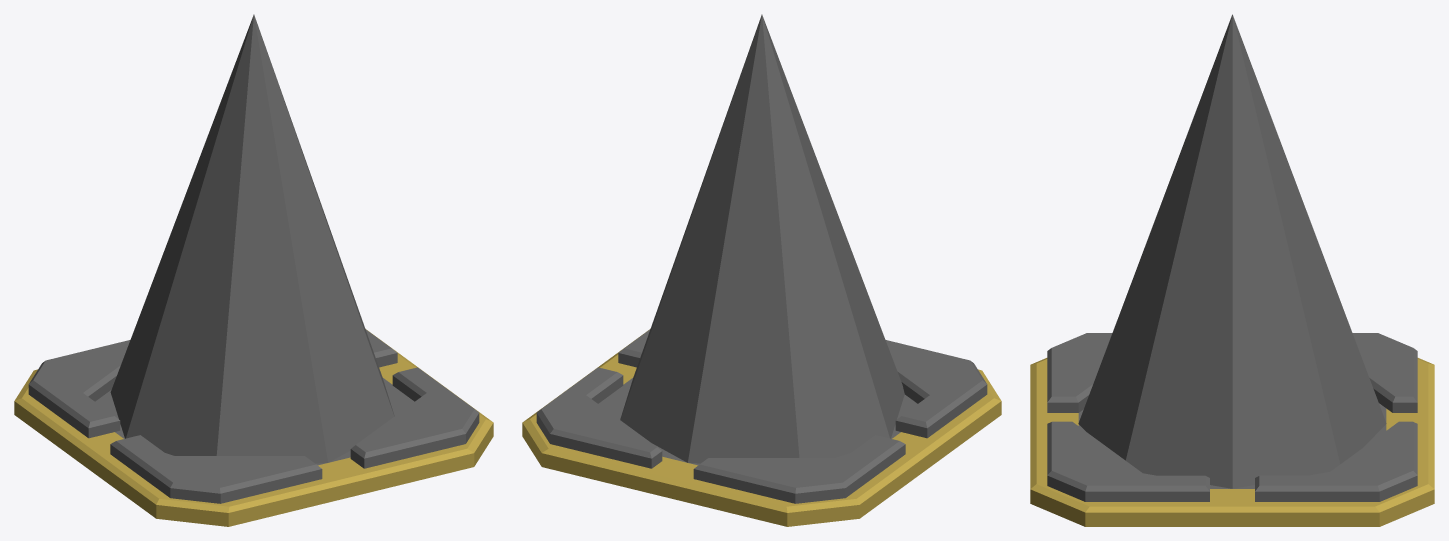
File: spiketrap (2).fbx
3 renders of one model, left to right at view 1: azimuth 30°, elevation 25°; view 2: azimuth 150°, elevation 25°; view 3: azimuth 270°, elevation 25°, orthographic. The views are drawn at different scales.
Parts seen in each view (by area): view 1: Plane; view 2: Plane; view 3: Plane.
Part boxes in pixels (box(x1,y1,x2,y2)): Plane: box(14, 14, 493, 526); Plane: box(522, 14, 1001, 526); Plane: box(1030, 14, 1434, 526).
Size of the model in its own units: 178 by 208 by 178.
